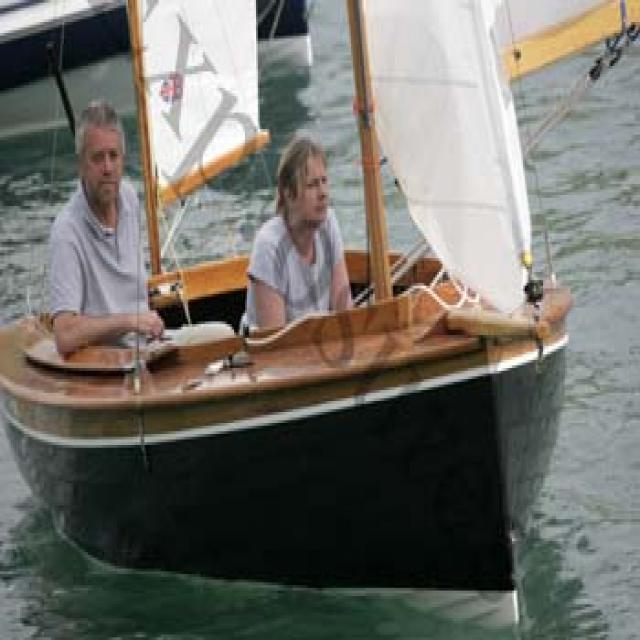Ship: (3, 1, 578, 623)
